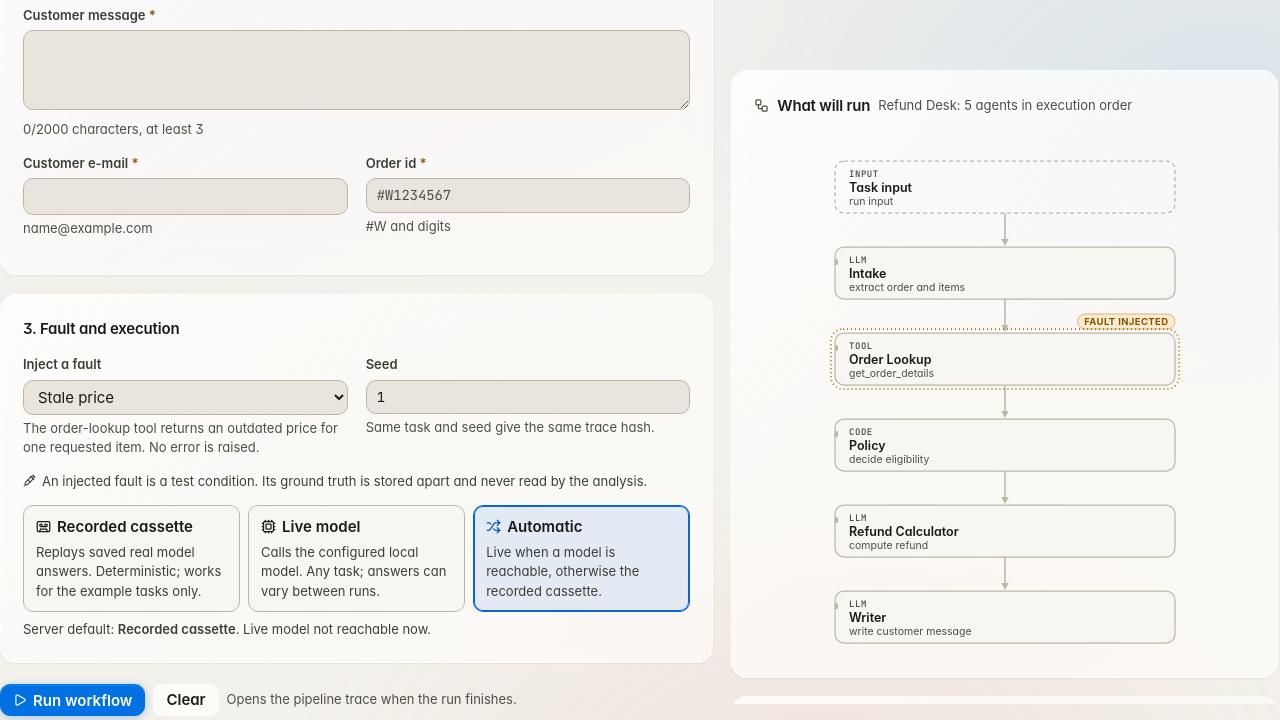
Test case: Task Studio execution › says which mode the server uses and warns before a live run when no model is reachable
This screenshot has width=1280, height=720.
(page scrolled)
Expected: the text "Server default: Recorded cassette. Live model not reachable now." is shown, [23,621,431,637]
Expected: the text "No live model is reachable" is not shown
Click the radio button labelled "Live model" at [357, 558], box [248,505,465,612]
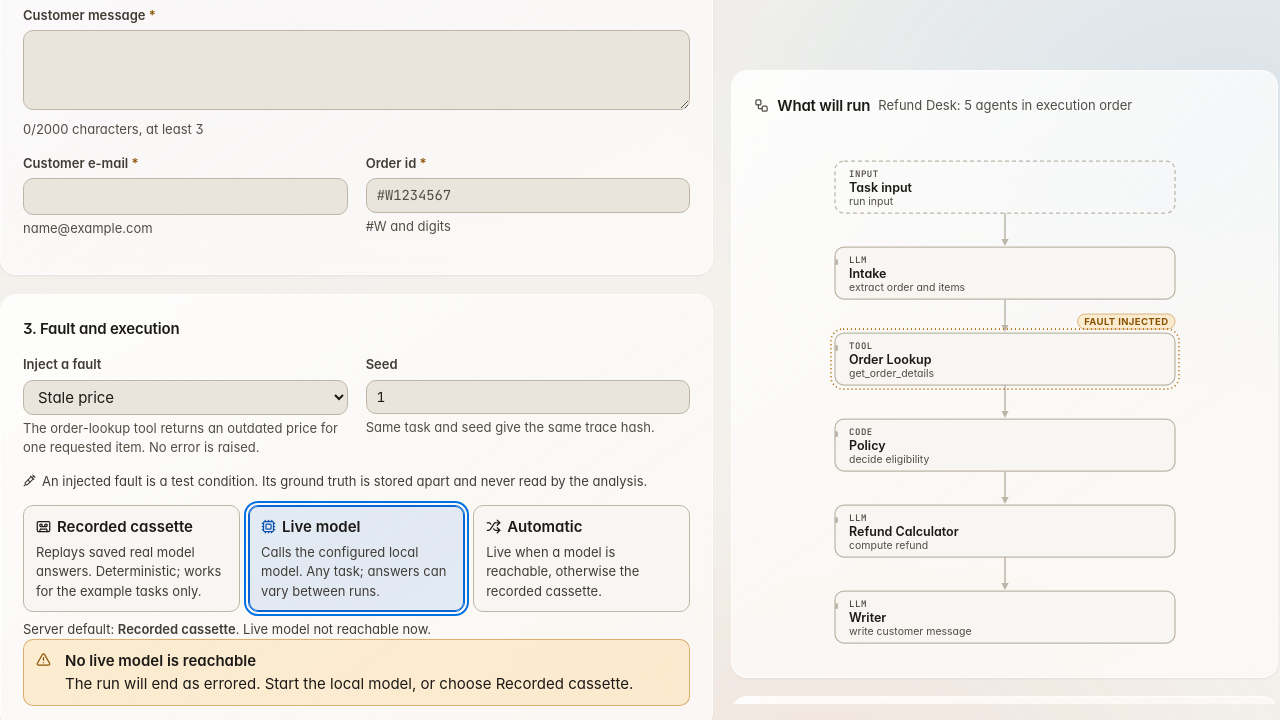
Expected: the text "No live model is reachable" is shown, [65,651,256,670]
